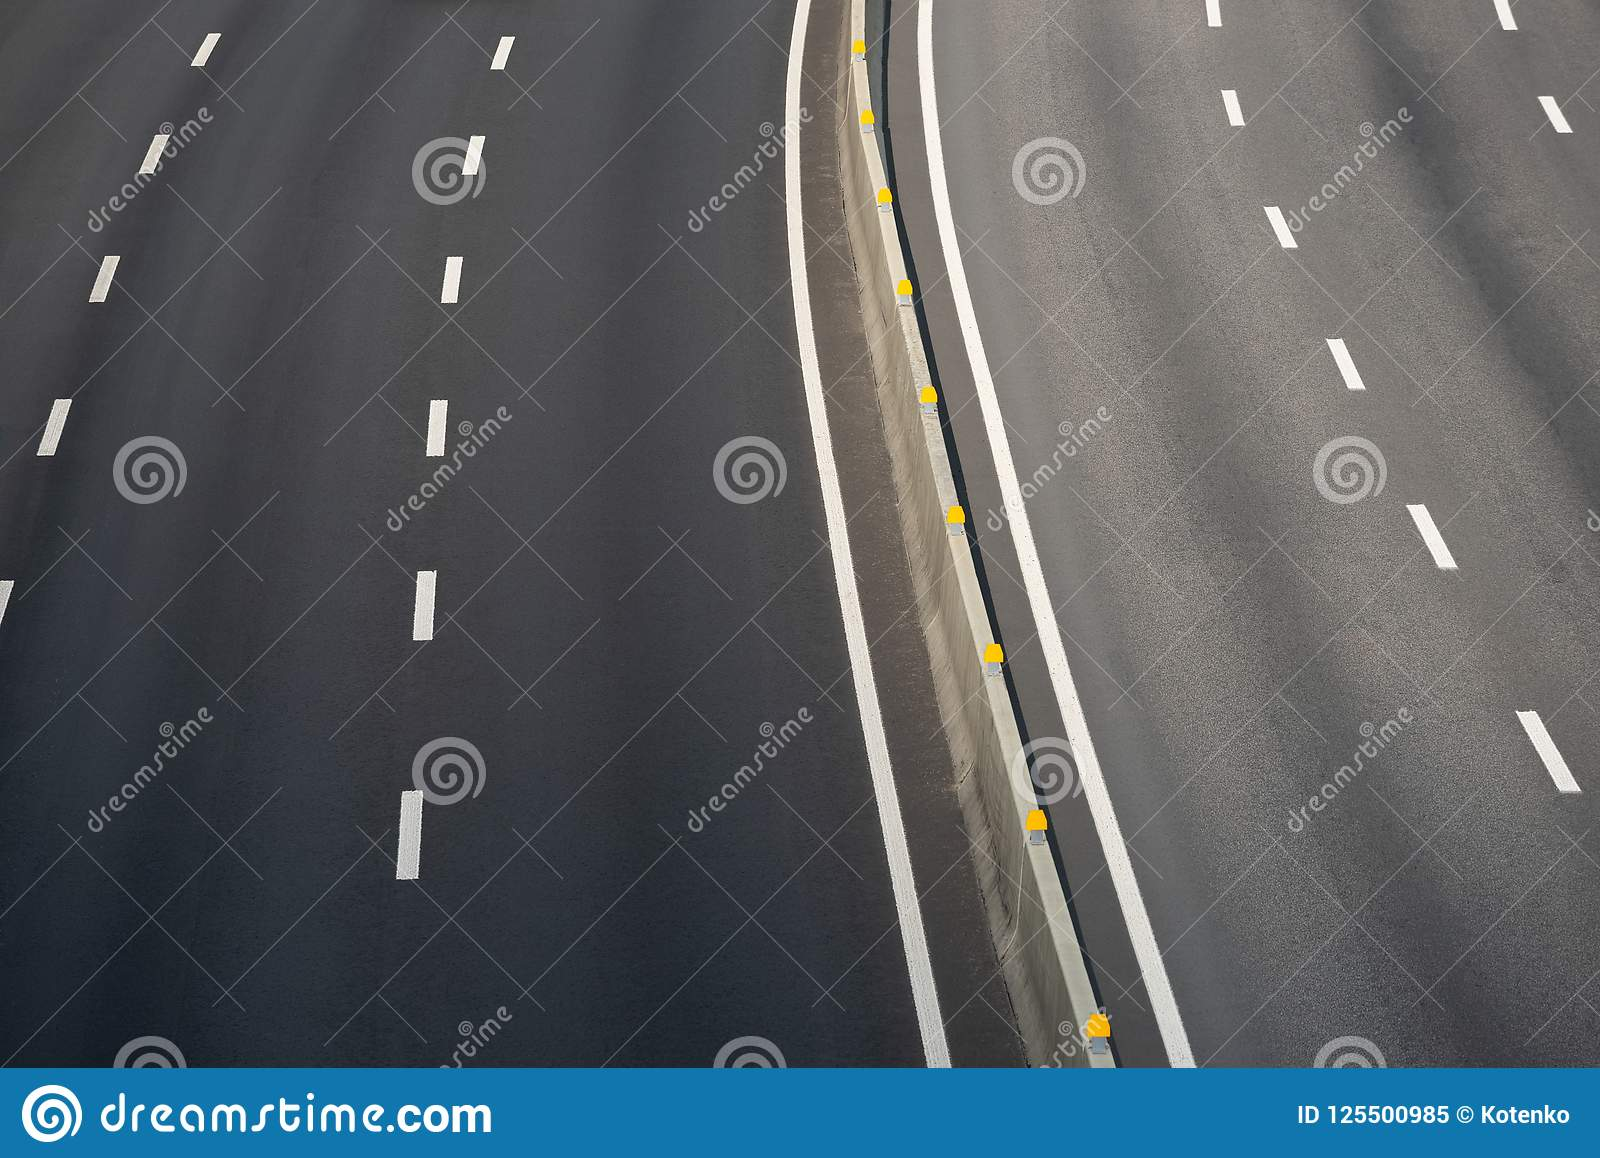LaneMark: (871, 808, 958, 1072), (824, 574, 912, 810), (802, 391, 865, 586), (1007, 522, 1080, 685), (911, 1, 957, 231), (969, 381, 1039, 529), (1127, 936, 1202, 1067), (934, 231, 1000, 381), (1089, 801, 1160, 931), (776, 214, 829, 389), (1502, 698, 1588, 803), (1041, 685, 1114, 803), (388, 774, 445, 898), (1396, 495, 1475, 579), (771, 86, 812, 219), (402, 558, 446, 657), (31, 386, 84, 467), (771, 1, 822, 84), (1320, 329, 1376, 398), (417, 386, 458, 473), (135, 122, 181, 186), (1258, 200, 1308, 257), (1529, 88, 1579, 143), (83, 246, 125, 309), (1214, 80, 1258, 138), (183, 26, 231, 77), (453, 129, 494, 189), (434, 246, 472, 308), (493, 27, 533, 76), (1486, 1, 1529, 39), (1202, 1, 1229, 32)
